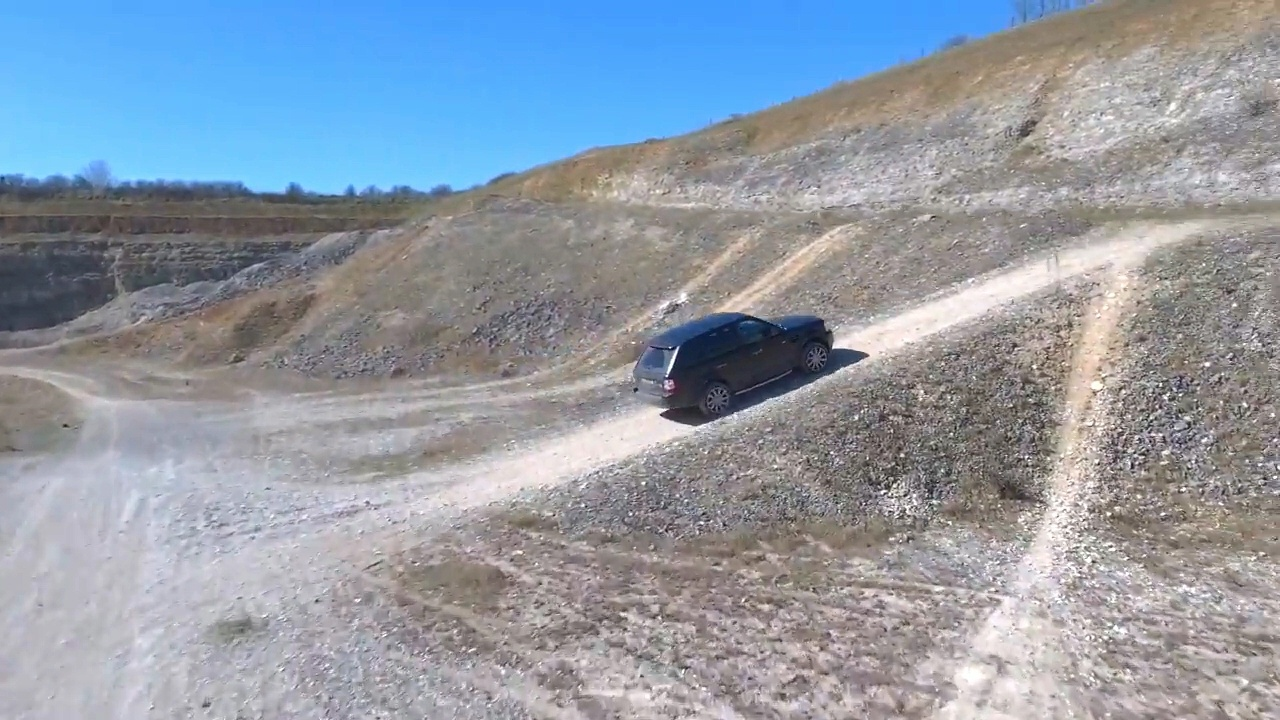araba: (623, 308, 839, 417)
